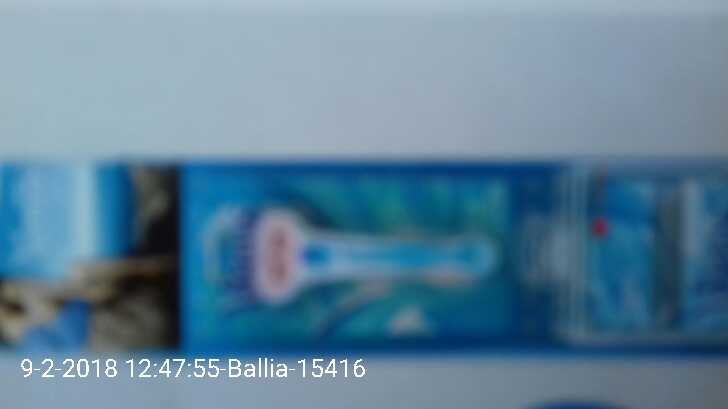venus: (174, 158, 558, 355)
